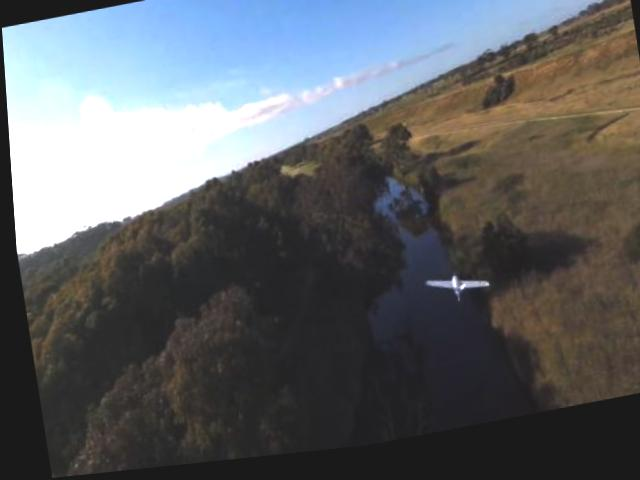uav: (418, 275, 488, 316)
